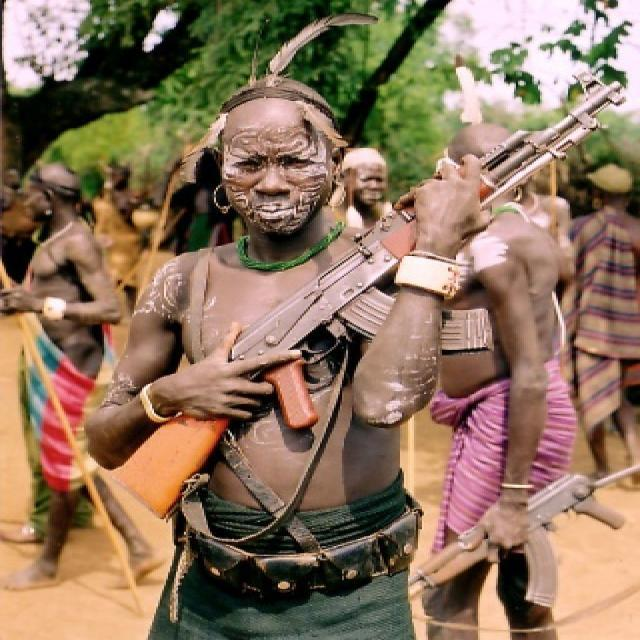weapon: (86, 70, 624, 524)
